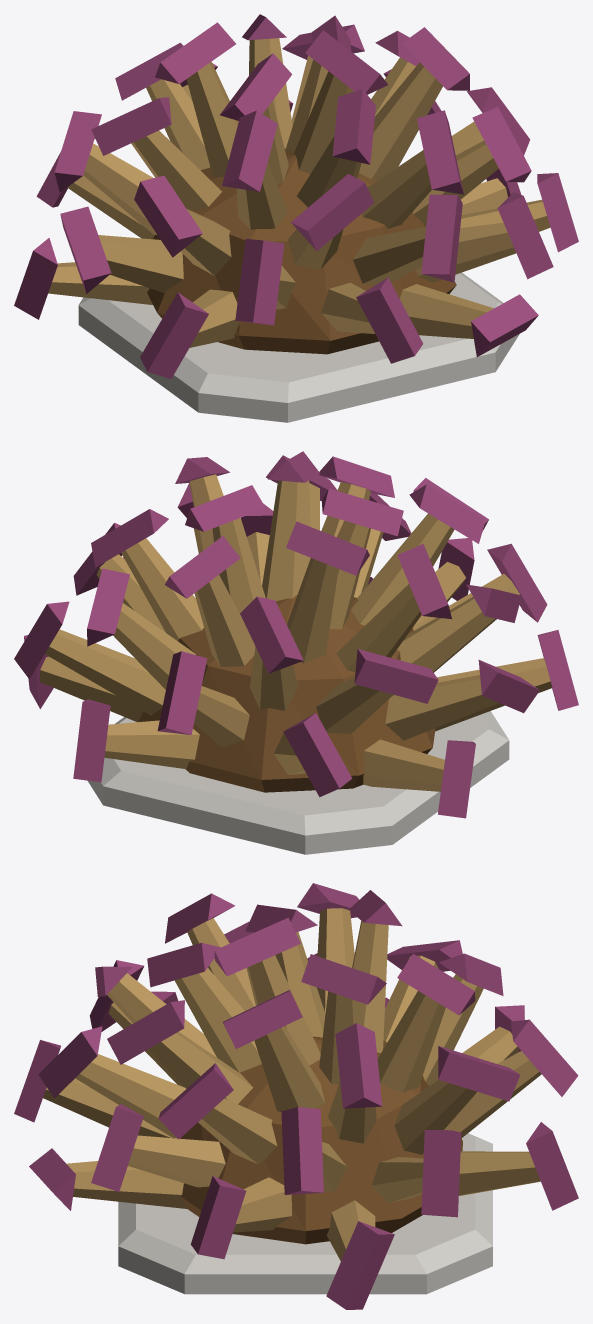
The model's file is hammer-coral-df4de0.glb.
3 renders of one model, top to bottom at view 1: azimuth 30°, elevation 25°; view 2: azimuth 150°, elevation 25°; view 3: azimuth 270°, elevation 25°, orthographic. The views are drawn at different scales.
Parts seen in each view (by area): view 1: tentacles, skeleton; view 2: tentacles, skeleton; view 3: tentacles, skeleton.
Boxes of the visible parts, x1=… form: tentacles: x1=14, y1=14, x2=578, y2=378; skeleton: x1=78, y1=148, x2=519, y2=422; tentacles: x1=14, y1=451, x2=578, y2=818; skeleton: x1=88, y1=595, x2=509, y2=854; tentacles: x1=14, y1=883, x2=578, y2=1309; skeleton: x1=118, y1=1036, x2=492, y2=1294.
Size of the model in its own units: 0.2573 by 0.1528 by 0.2564.
